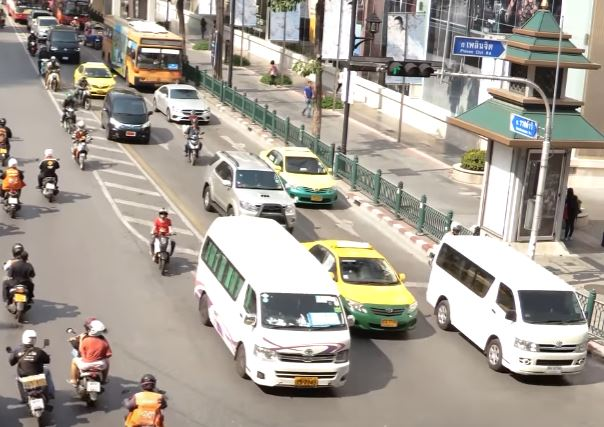Bus: (192, 214, 352, 392), (425, 233, 591, 381), (103, 13, 182, 89), (50, 1, 90, 26), (5, 1, 50, 21)
Car: (301, 240, 421, 339), (200, 150, 297, 230), (258, 145, 340, 210), (102, 87, 151, 142), (153, 83, 211, 124), (74, 60, 117, 97), (46, 25, 82, 64)
Motorcycle: (7, 328, 60, 427), (65, 317, 114, 409), (2, 241, 38, 322), (120, 371, 169, 427), (148, 207, 179, 278), (1, 158, 25, 218), (37, 148, 62, 203), (184, 109, 205, 168), (71, 120, 92, 173), (73, 75, 92, 111), (61, 94, 77, 135), (44, 55, 61, 93), (1, 118, 14, 161), (26, 30, 39, 55)
TukTuk: (83, 21, 104, 49)
